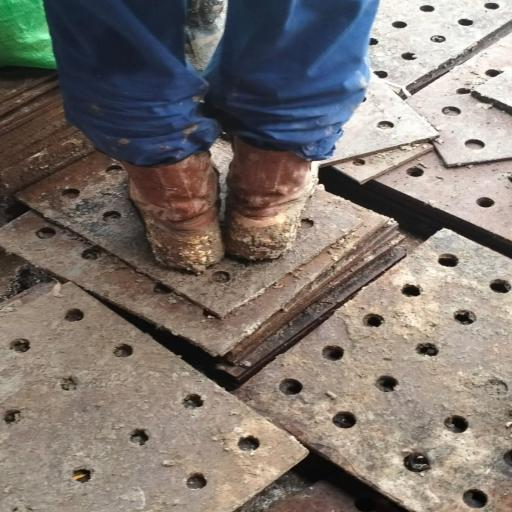safety_shoe: (122, 155, 226, 268), (224, 144, 318, 260)
